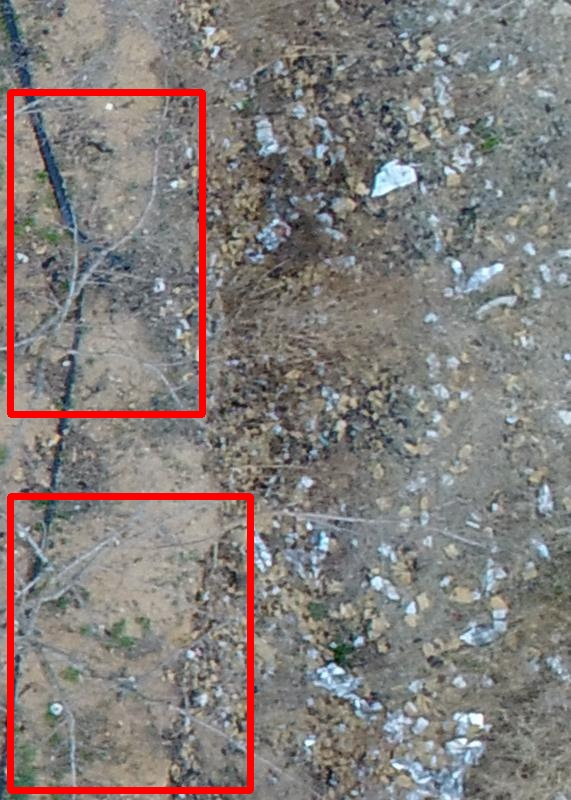apple: (10, 496, 250, 790), (10, 92, 202, 414)
